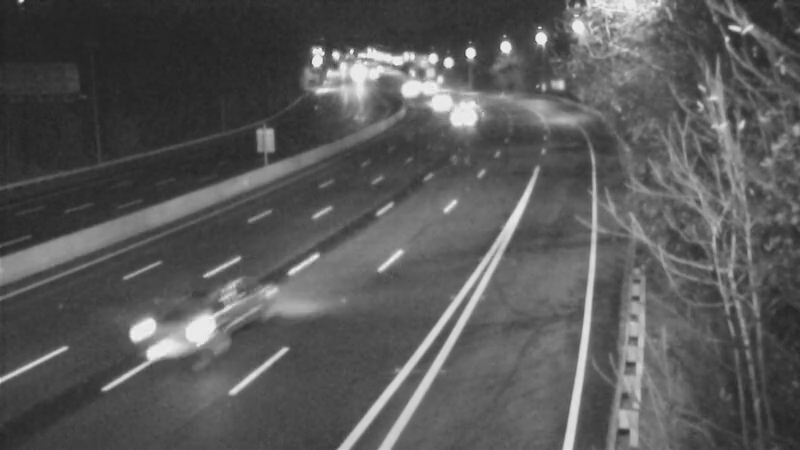vehicle: (123, 278, 233, 388), (414, 77, 464, 127), (445, 75, 495, 125), (435, 98, 485, 148)
